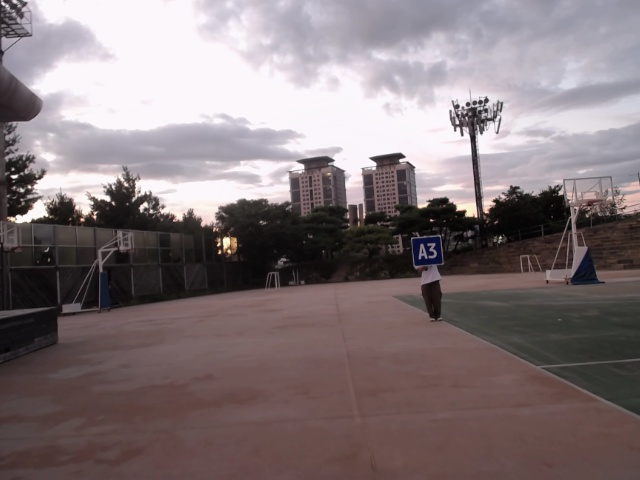delivery_a3: (411, 236, 444, 267)
